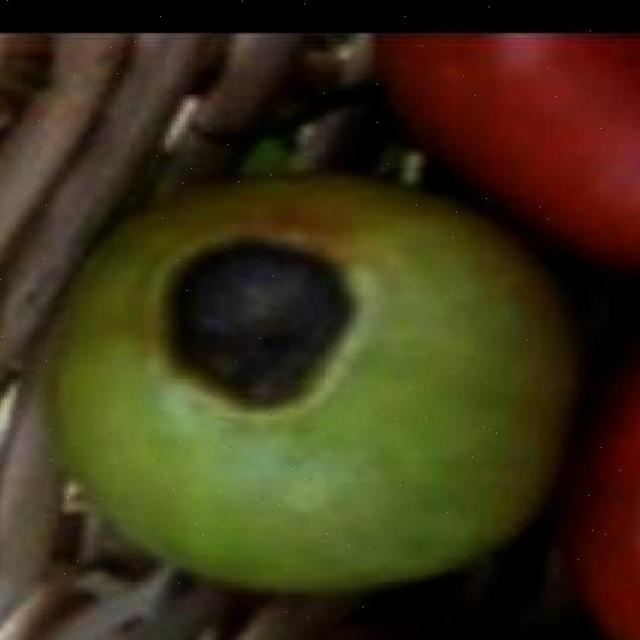Blossom End Rot Fruit: (99, 154, 260, 282)
